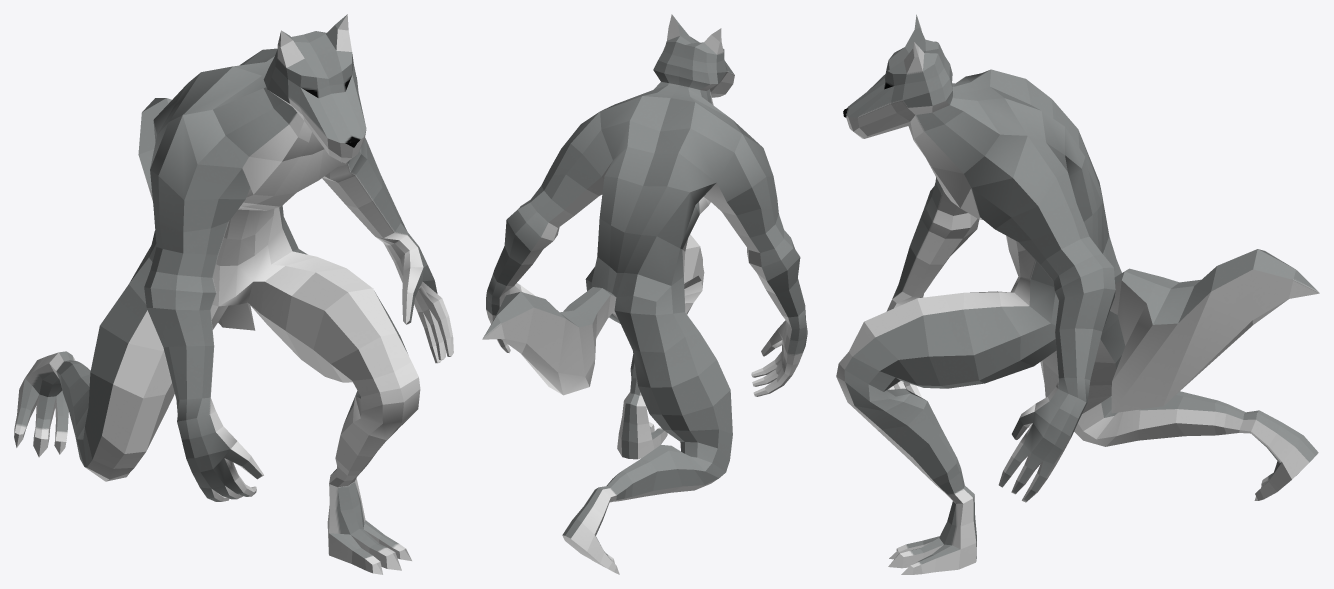
The model's file is WolfWalk(13).obj.
The picture shows the model from 3 angles, left to right: view 1: azimuth 30°, elevation 25°; view 2: azimuth 150°, elevation 25°; view 3: azimuth 270°, elevation 25°; orthographic projection. The views are drawn at different scales.
Visible parts, largest first — view 1: Box001; view 2: Box001; view 3: Box001.
Part boxes in pixels (x1=…): Box001: x1=14, y1=14, x2=453, y2=574; Box001: x1=482, y1=14, x2=807, y2=574; Box001: x1=836, y1=14, x2=1319, y2=574.
Size of the model in its own units: 77 by 121 by 104.
